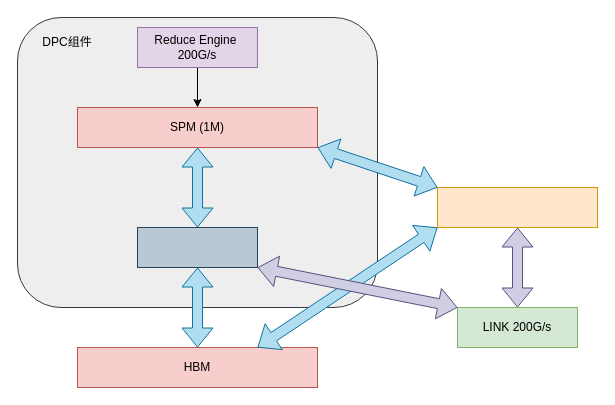
The diagram is 615 pixels wide and 405 high, and some of its shapes have lost their labels. Each missing label, with the centre of its shape:
4 X RTDMA(LINK ) 50G/s: (517,207)
DME 600G/s: (197,247)
